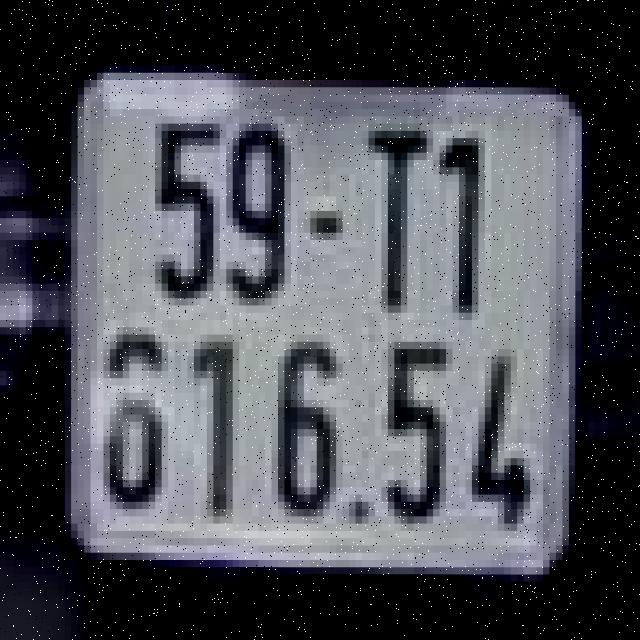1: (178, 324, 249, 527), (430, 112, 488, 324)
4: (466, 327, 536, 553)
5: (378, 324, 462, 542), (145, 117, 223, 306)
6: (268, 327, 346, 524), (94, 320, 165, 516)
9: (226, 116, 291, 320)
T: (349, 112, 433, 324)
